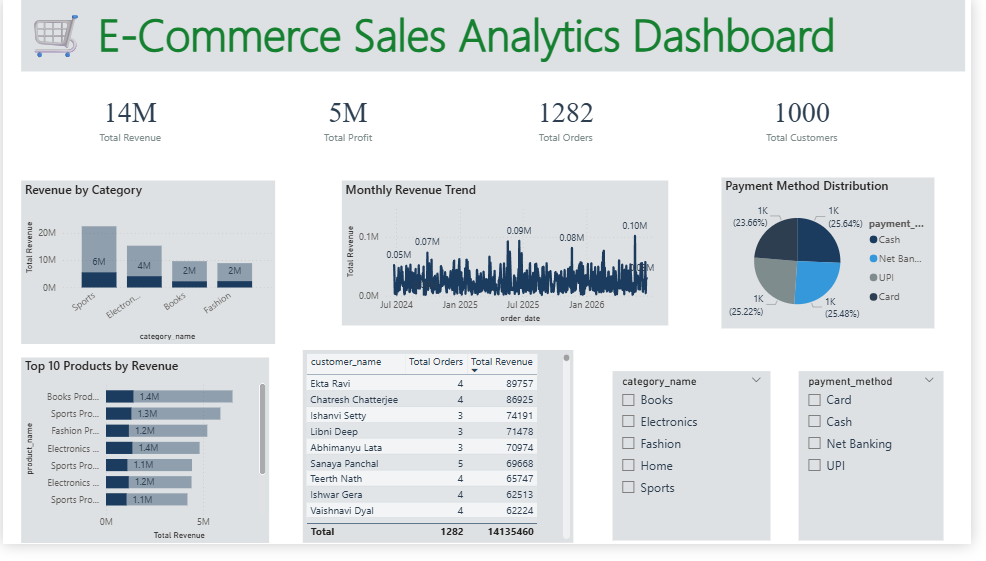

This screenshot's page, from the dashboard's own definition file:
{"tool":"powerbi","page":{"name":"Page 1","canvas":[1280,720],"ordinal":0},"visuals":[{"type":"card","fields":{"Values":["orders.Total Revenue"]},"box":[72,96,192,120],"z":0},{"type":"card","fields":{"Values":["categories.Total Profit"]},"box":[360,96,192,120],"z":1},{"type":"card","fields":{"Values":["categories.Total Orders"]},"box":[648,96,192,120],"z":2},{"type":"card","fields":{"Values":["categories.Total Customers"]},"box":[960,96,192,120],"z":3},{"type":"clusteredColumnChart","title":"Revenue by Category","fields":{"Category":["categories.category_name"],"Y":["orders.Total Revenue"]},"box":[24,240,336,216],"z":4},{"type":"lineChart","title":"Monthly Revenue Trend","fields":{"Y":["orders.Total Revenue"],"Category":["orders.order_date"]},"box":[448,240,432,192],"z":5},{"type":"pieChart","title":"Payment Method Distribution","fields":{"Category":["orders.payment_method"],"Y":["categories.Total Orders"]},"box":[949.3,235.9,281.9,199.4],"z":6},{"type":"clusteredBarChart","title":"Top 10 Products by Revenue","fields":{"Category":["product.product_name"],"Y":["orders.Total Revenue"]},"box":[24.9,473.7,327.9,245.5],"z":7},{"type":"tableEx","fields":{"Values":["customer.customer_name","categories.Total Orders","orders.Total Revenue"]},"box":[395.1,464.1,358.6,255.1],"z":8},{"type":"slicer","fields":{"Values":["categories.category_name"]},"box":[805.5,492.9,209,224.4],"z":9},{"type":"slicer","fields":{"Values":["orders.payment_method"]},"box":[1052.9,492.9,191.8,224.4],"z":10},{"type":"textbox","box":[24,0,1248,96],"z":12}]}

Visuals, with their boxes in screenshot pixels (x1, y1, x2, y2), scaled from the page's 1280x720 canvas onto the 986x561 screenshot:
card - orders.Total Revenue: 55, 75, 203, 168
card - categories.Total Profit: 277, 75, 425, 168
card - categories.Total Orders: 499, 75, 647, 168
card - categories.Total Customers: 740, 75, 887, 168
"Revenue by Category" clusteredColumnChart: 18, 187, 277, 355
"Monthly Revenue Trend" lineChart: 345, 187, 678, 337
"Payment Method Distribution" pieChart: 731, 184, 948, 339
"Top 10 Products by Revenue" clusteredBarChart: 19, 369, 272, 560
tableEx - customer.customer_name x categories.Total Orders: 304, 362, 581, 560
slicer - categories.category_name: 620, 384, 781, 559
slicer - orders.payment_method: 811, 384, 959, 559
textbox: 18, 0, 980, 75
